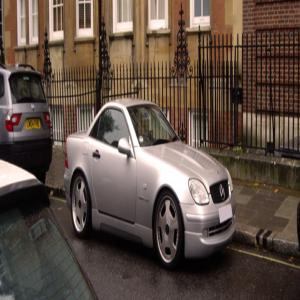Vehicle-registration-plate: (220, 203, 234, 225), (27, 117, 41, 129)
